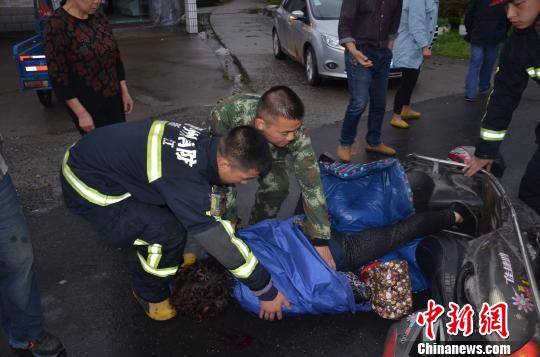fall: (178, 182, 475, 330)
